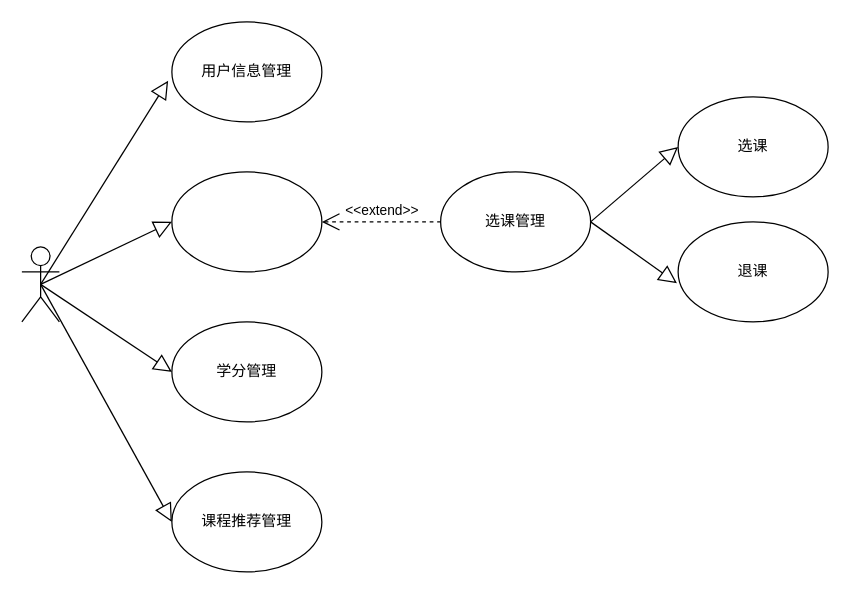
The diagram is 850 pixels wide and 594 high, and some of its shapes have lost their labels. Each missing label, with the centre of its shape:
"用户" belongs at point (40, 284).
"课程信息管理" belongs at point (246, 221).
